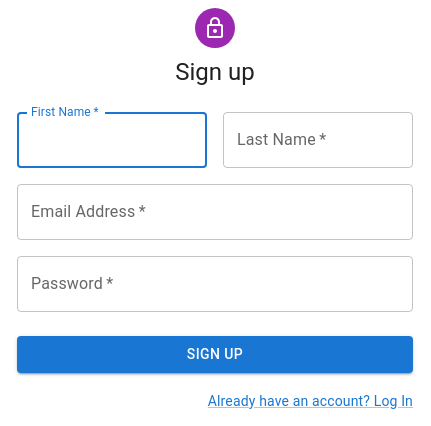
Test: App Component Tests › SignUp Component › signs up new user successfully
The image size is (431, 426).
Type "John" into the field labelled "First Name *" at (112, 140), box [17,112,207,168]
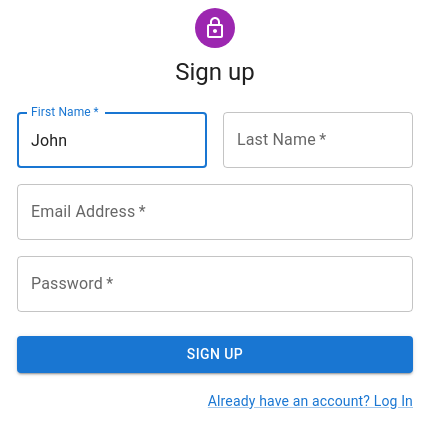
Type "Doe" into the field labelled "Last Name *" at (318, 140), box [223,112,413,168]
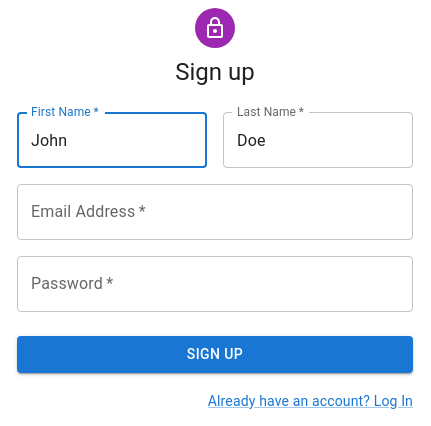
Type "john.doe@example.com" into the field labelled "Email Address *" at (215, 212), box [17,184,413,240]
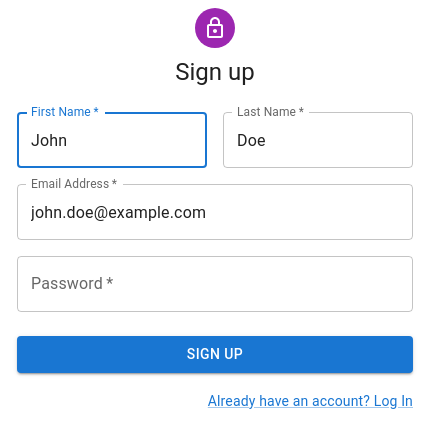
Type "password123" into the password field labelled "Password *" at (215, 284), box [17,256,413,312]
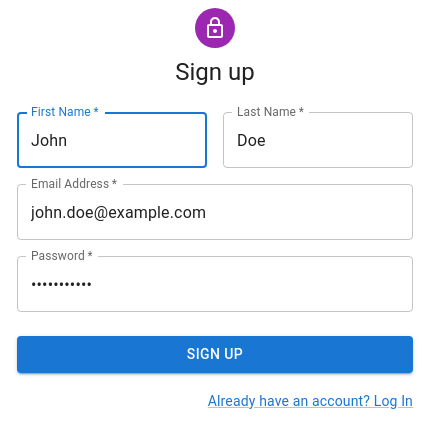
Click the button "Sign Up" at (215, 354), box [17,336,413,372]
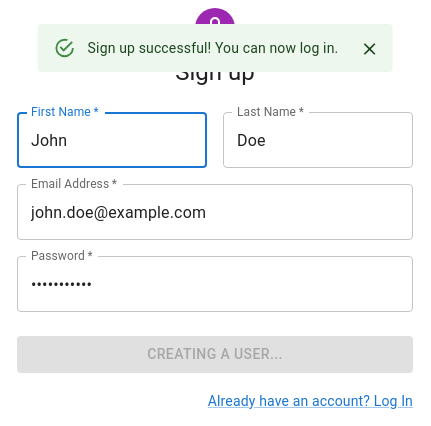
expect the text "Sign up successful! You can now log in." is shown: met, box [88,40,338,56]
